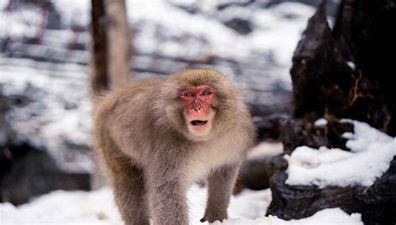monkey: (88, 38, 289, 212)
